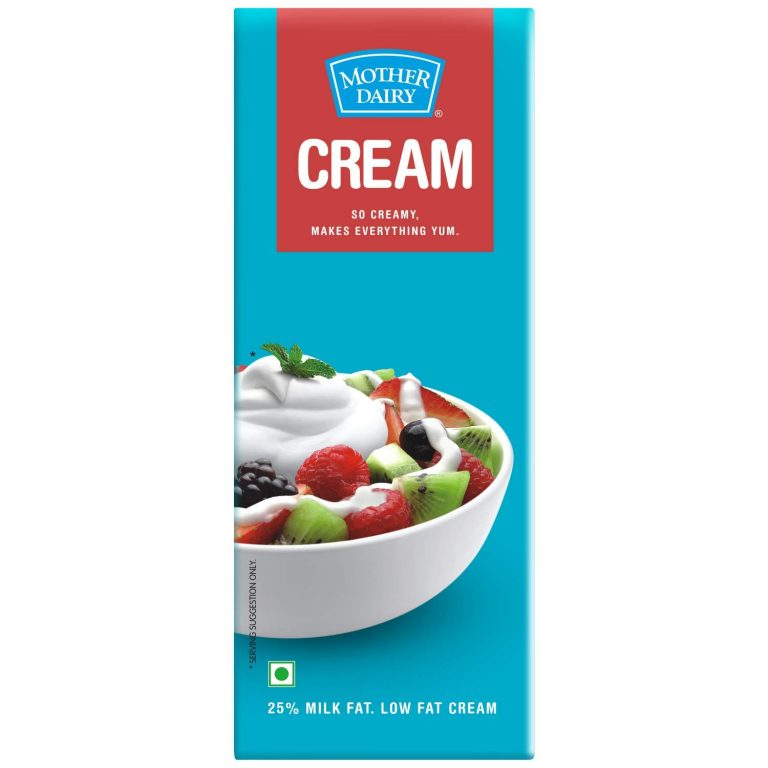Mother_Dairy: (309, 37, 455, 133)
